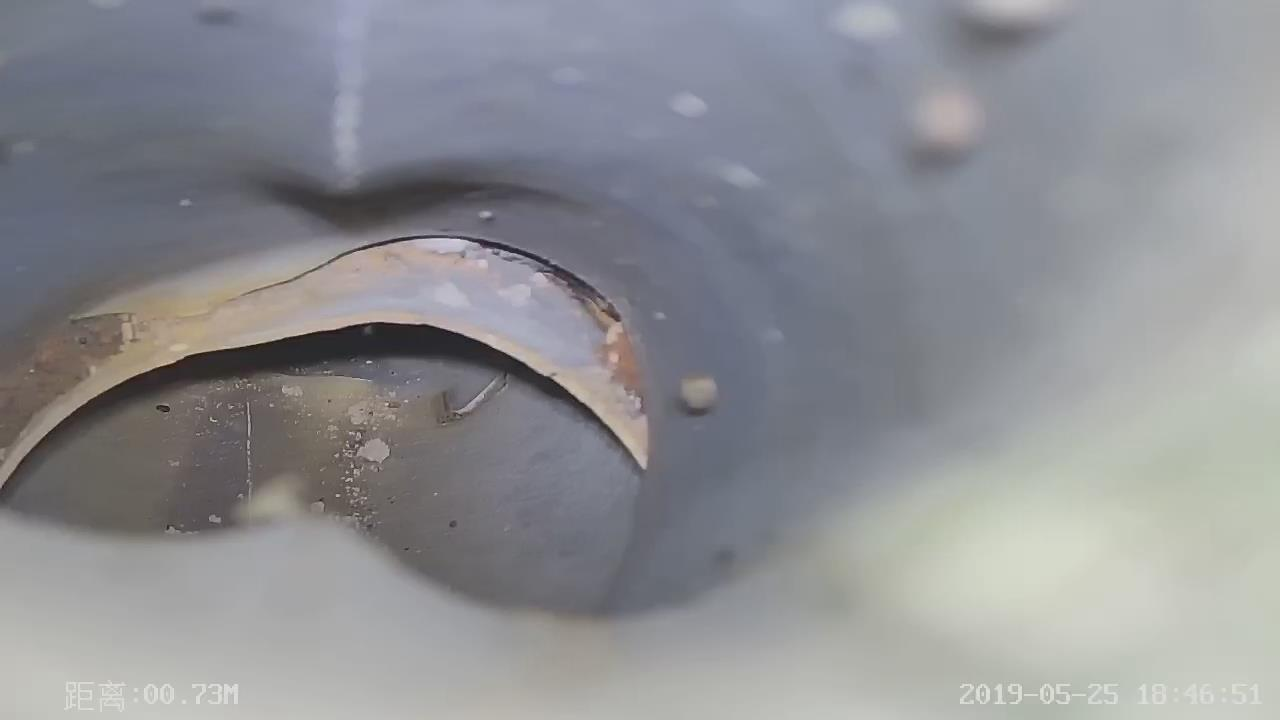BX: (0, 147, 675, 498)
